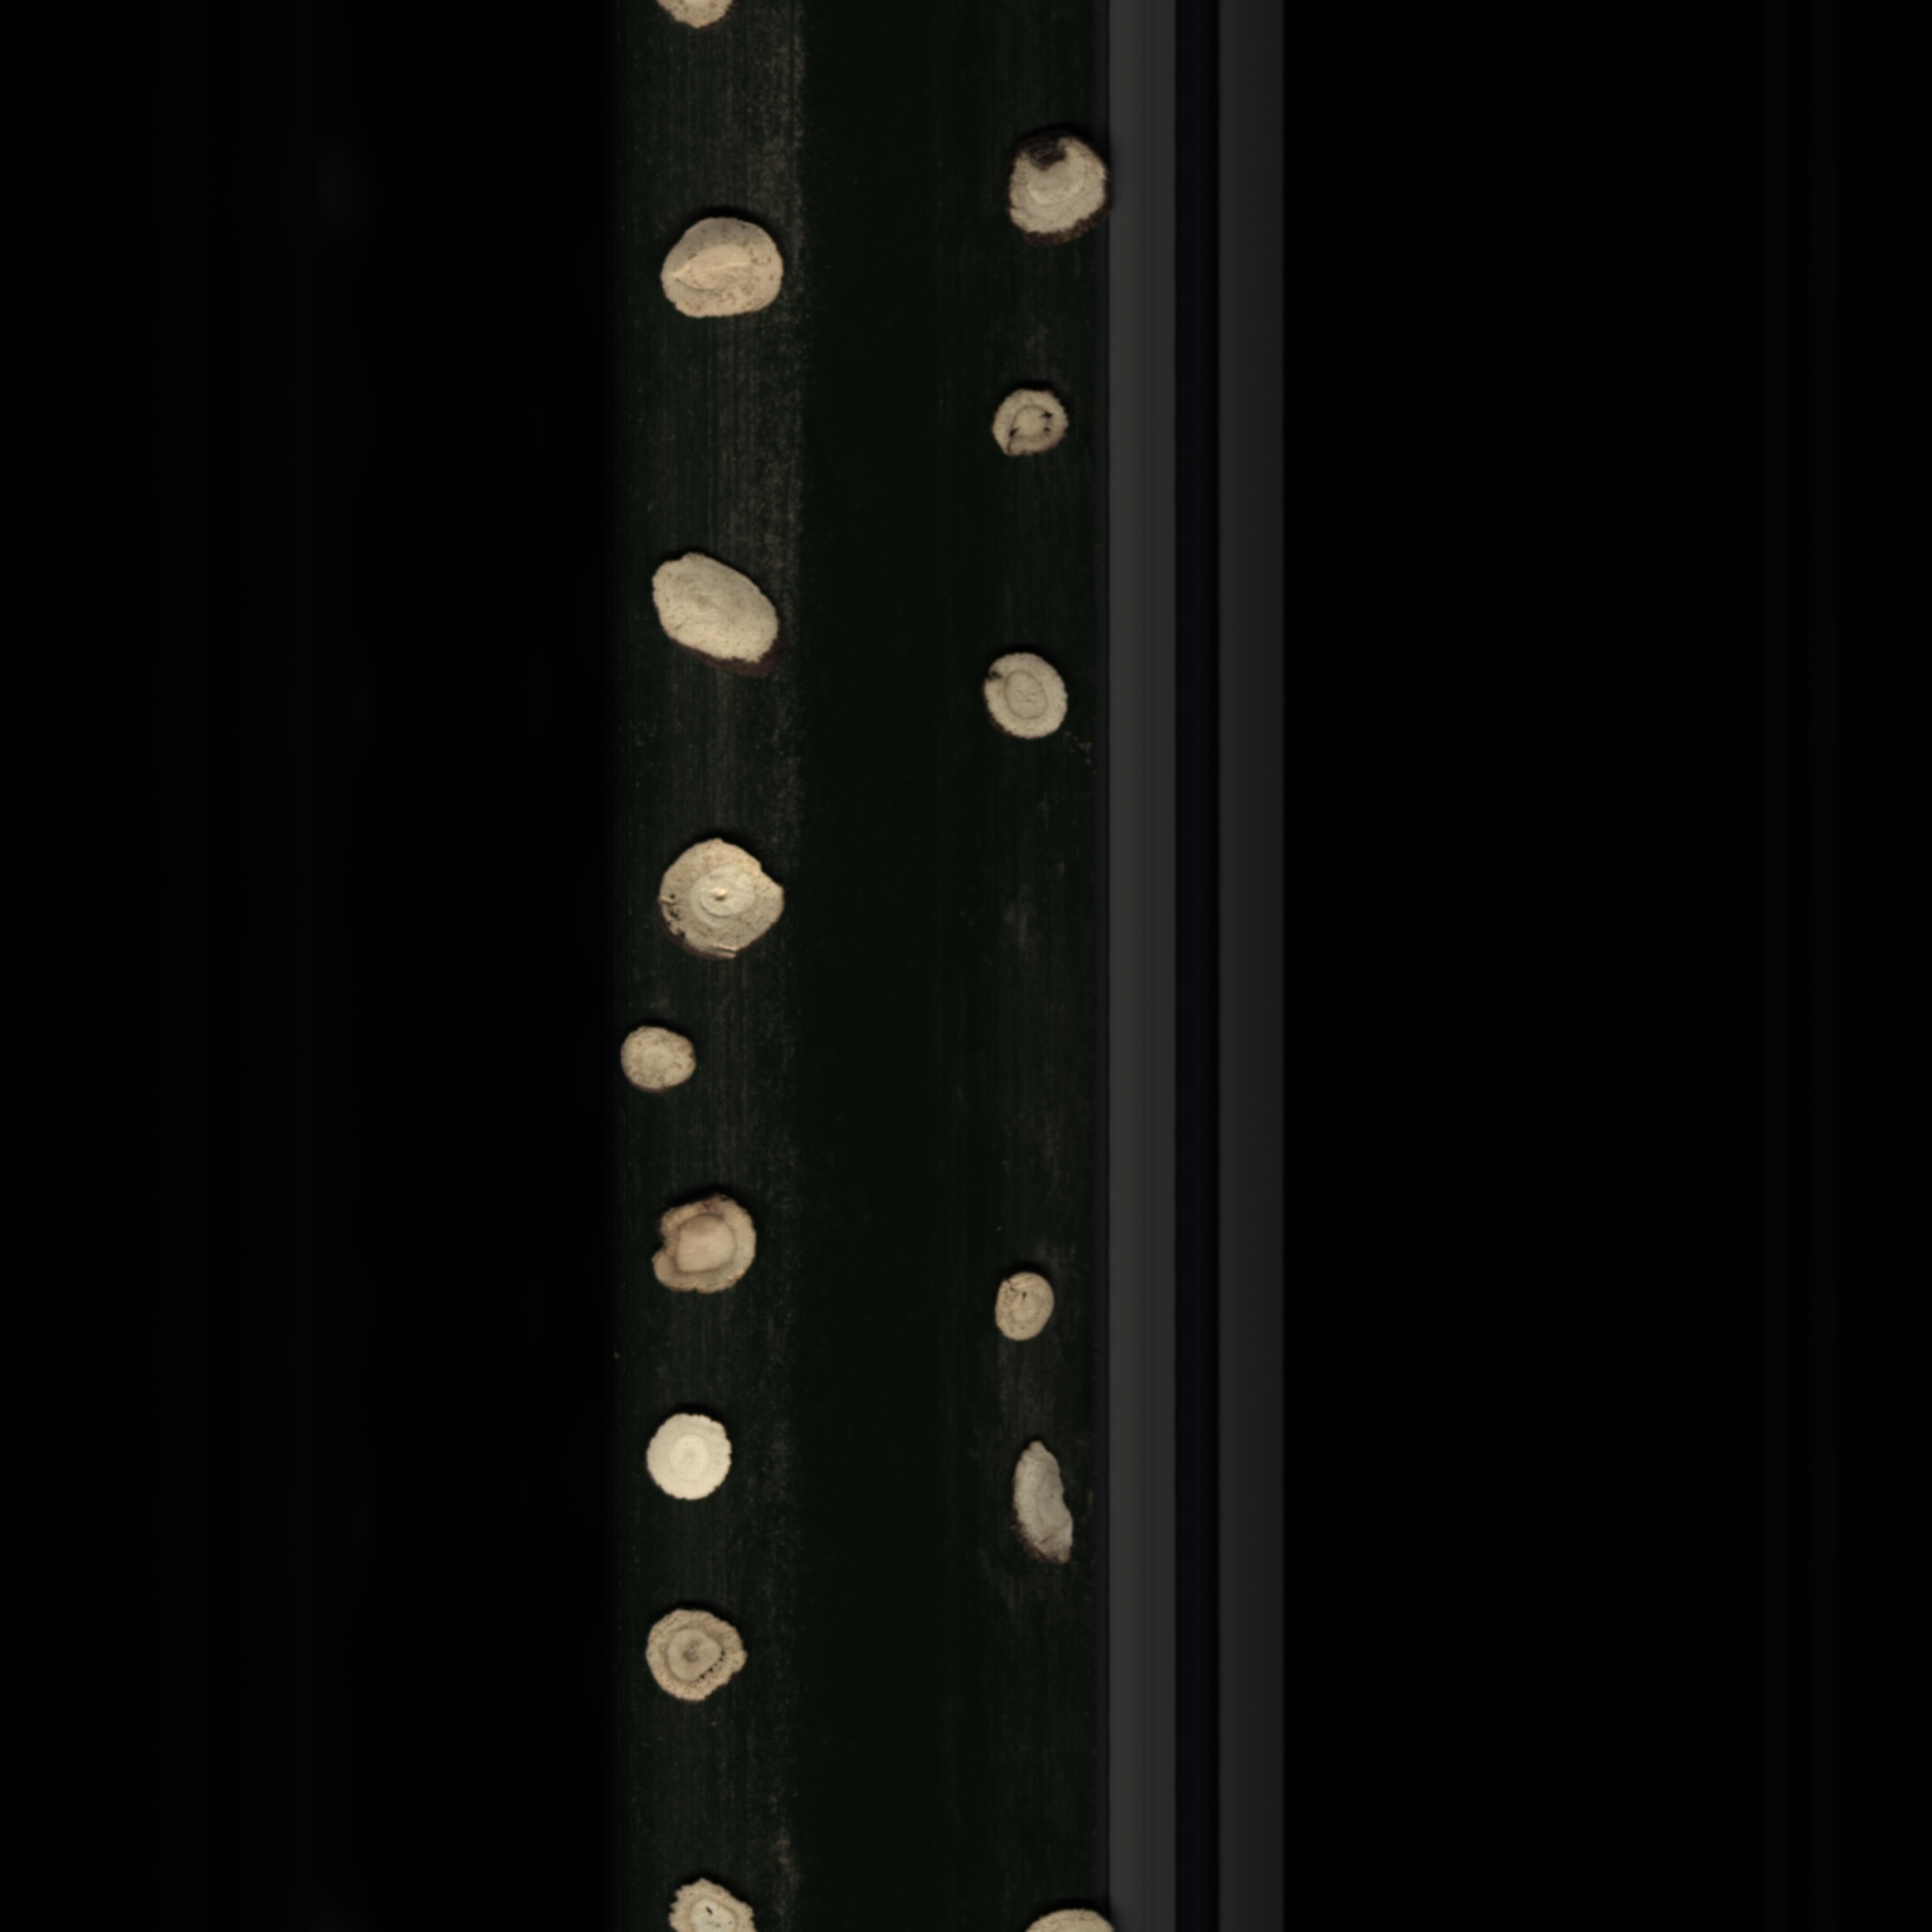debris: (1010, 1438, 1090, 1569)
distortion: (1005, 129, 1116, 253)
hole: (982, 380, 1085, 471)
